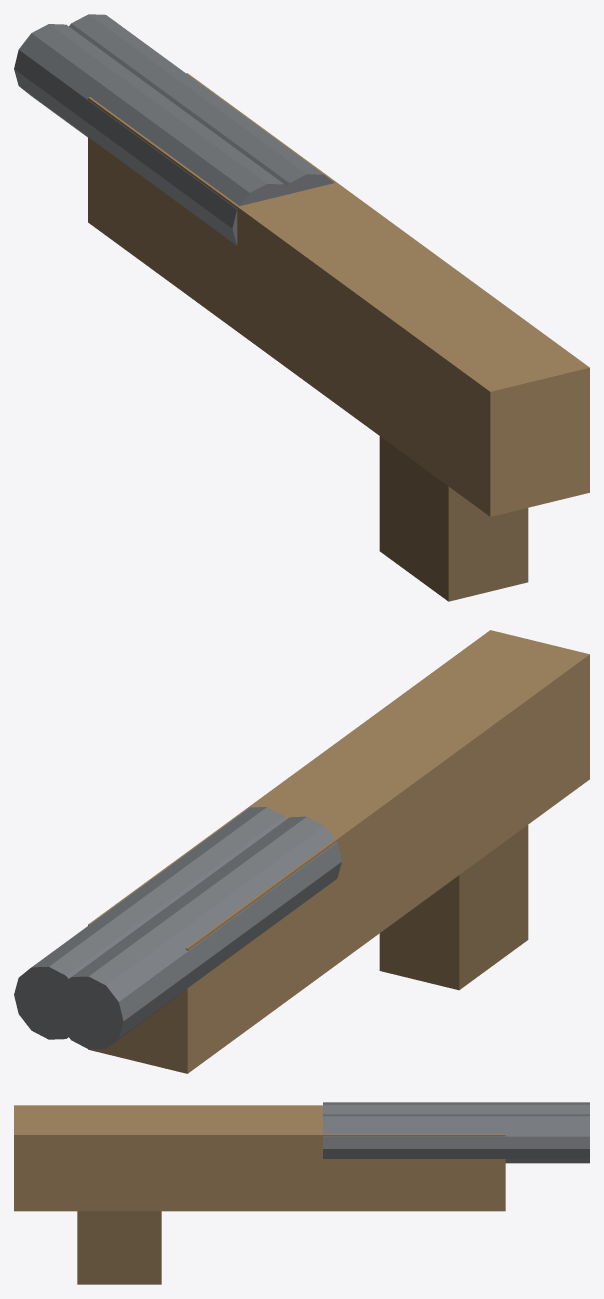
Rendered from shotgun.glb.
The picture shows the model from 3 angles, top to bottom: view 1: azimuth 30°, elevation 25°; view 2: azimuth 150°, elevation 25°; view 3: azimuth 270°, elevation 25°; orthographic projection. The views are drawn at different scales.
Parts seen in each view (by area): view 1: geometry_0; view 2: geometry_0; view 3: geometry_0.
Part boxes in pixels (x1,y1,x2,y2): geometry_0: [14, 14, 589, 601]; geometry_0: [14, 630, 589, 1073]; geometry_0: [14, 1102, 589, 1284].
Bounding box in the file's own units: 0.11 × 0.255 × 0.82.
